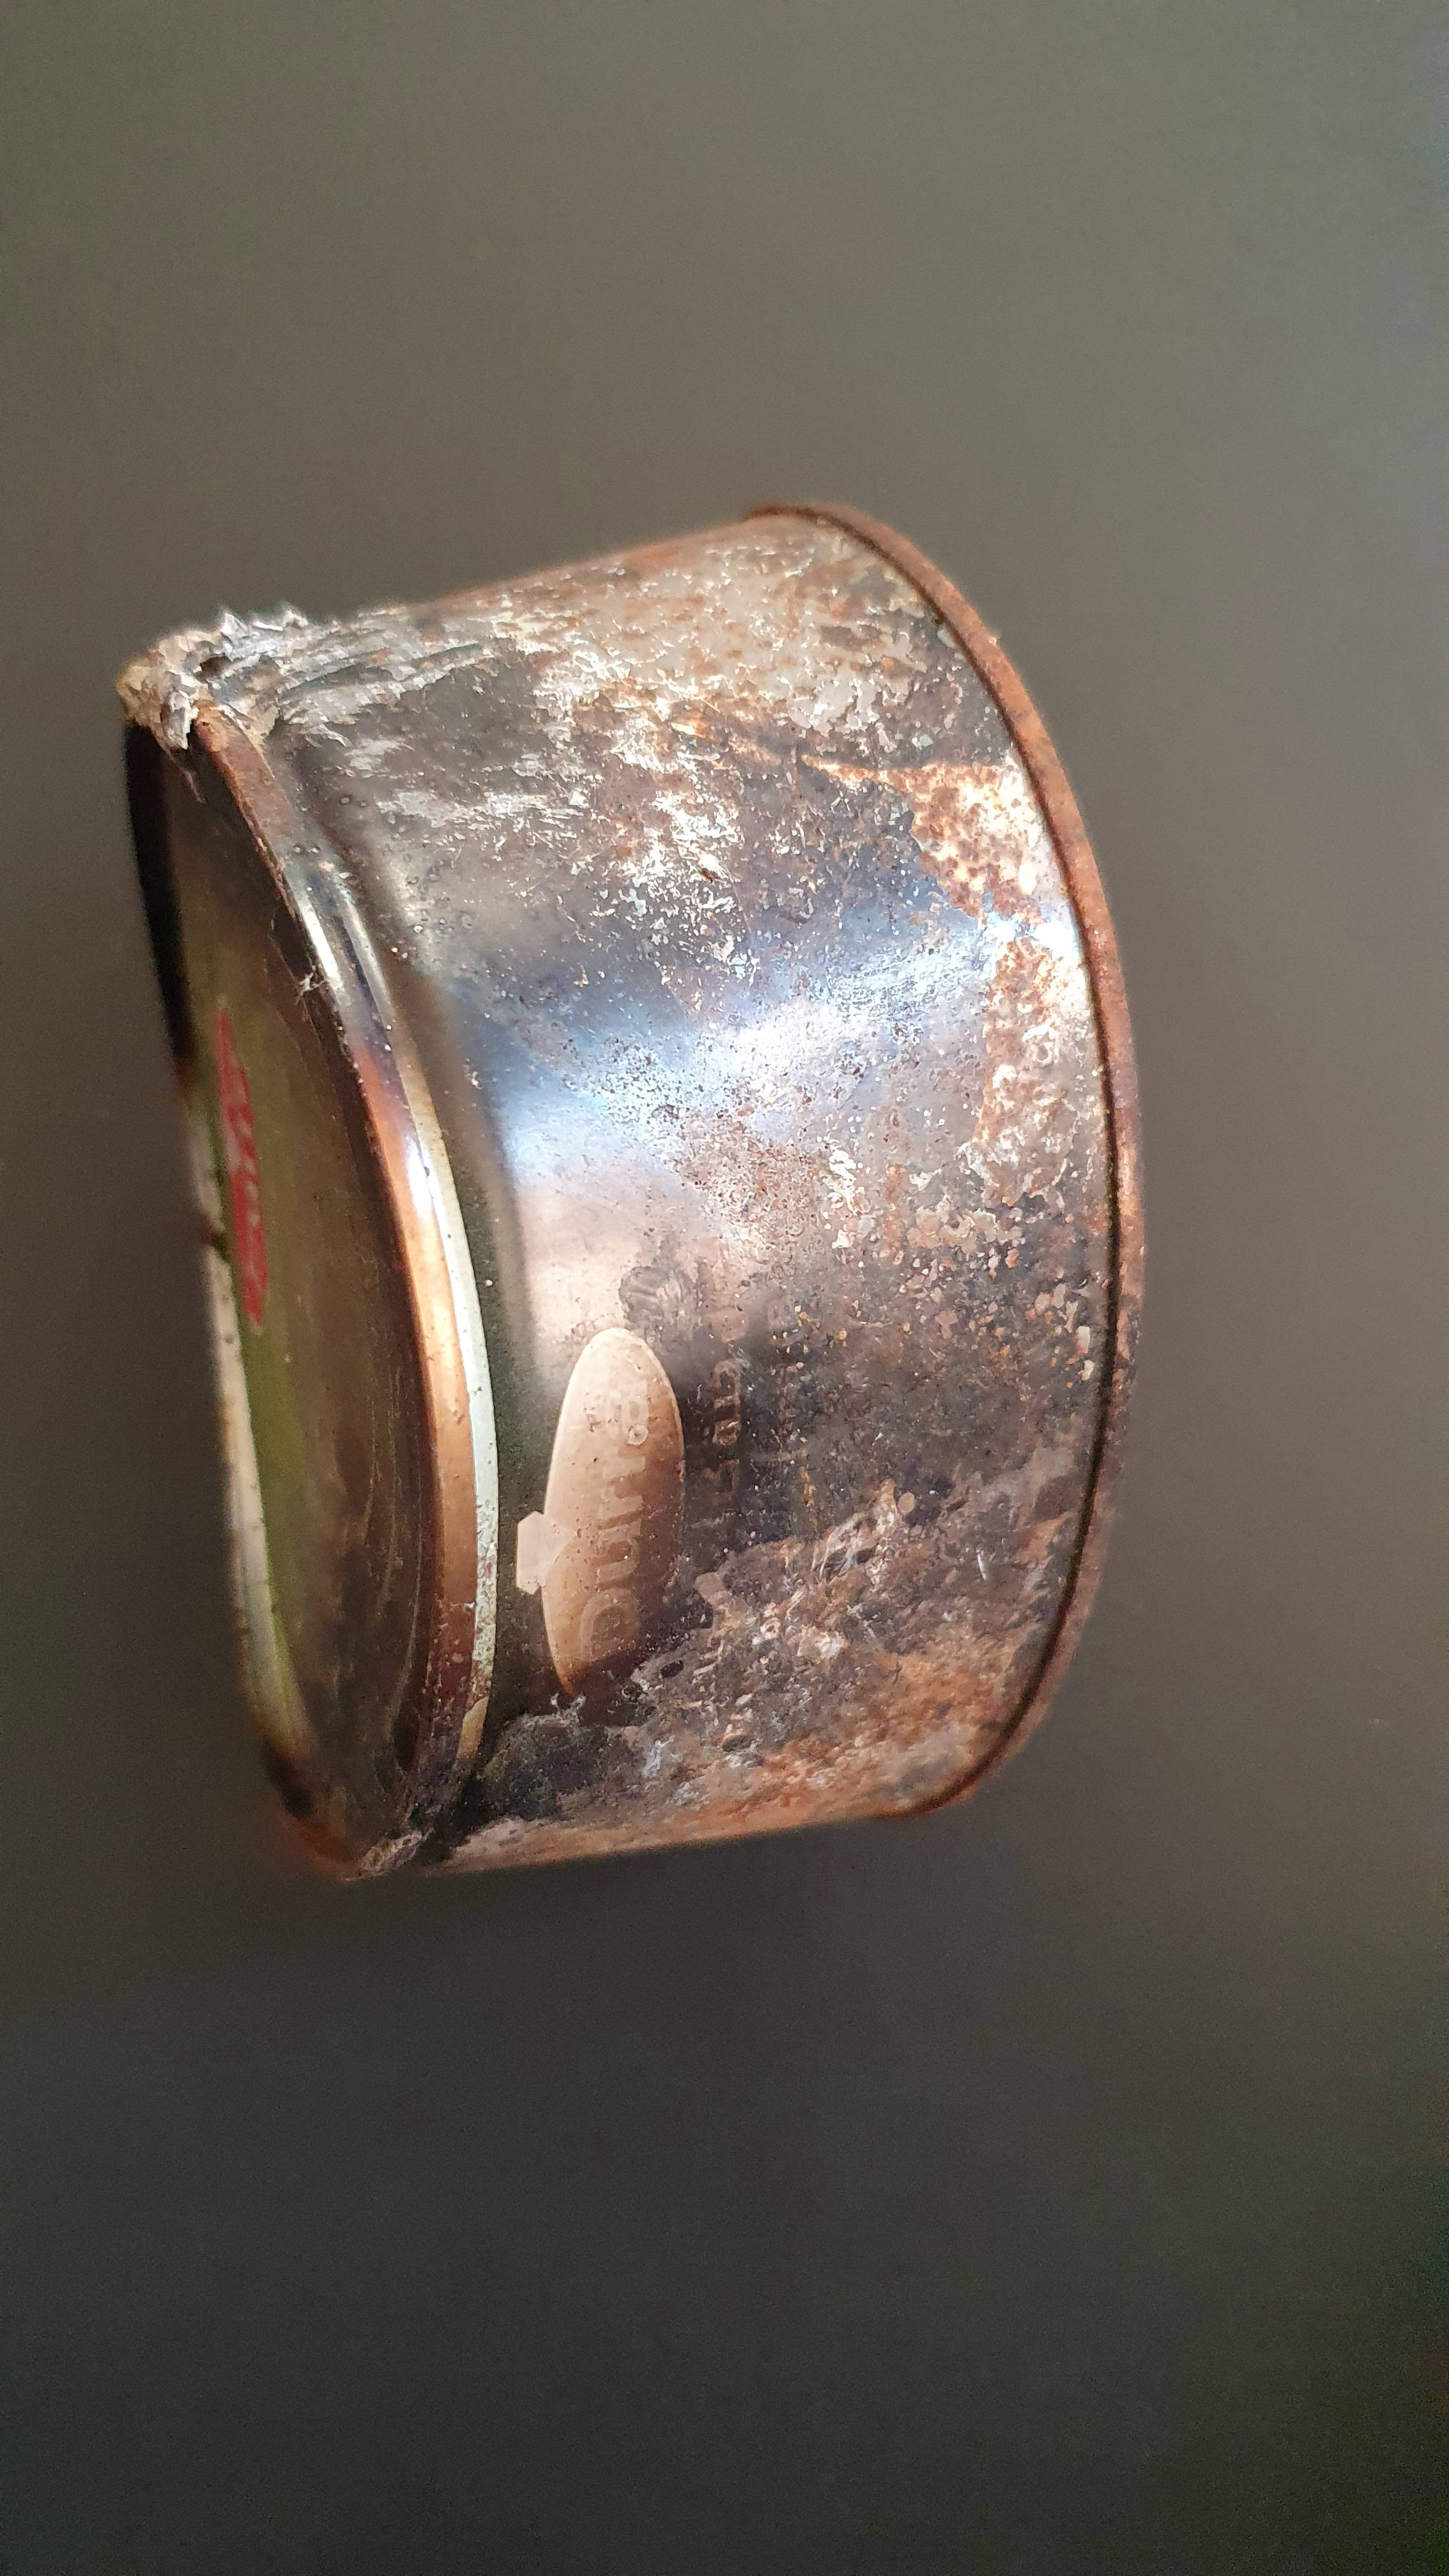metal: (76, 451, 1182, 1888)
